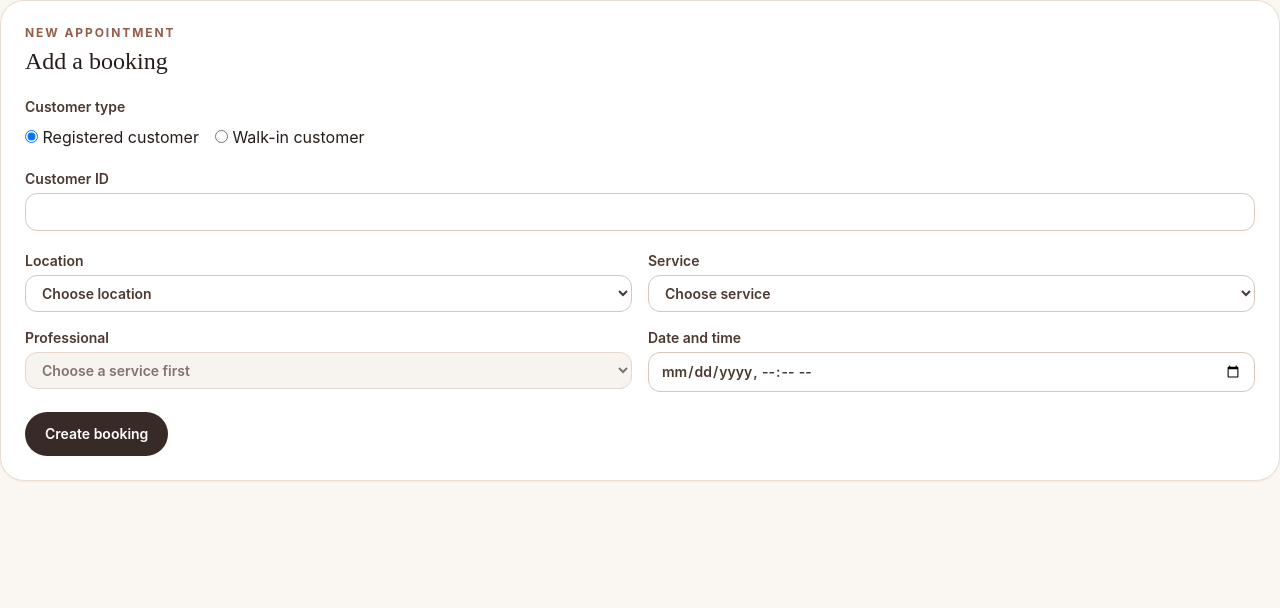
it: BookingEditor › collects explicit walk-in contact details
Click the radio button labelled "Walk-in customer": (221, 136) [215,130,228,143]
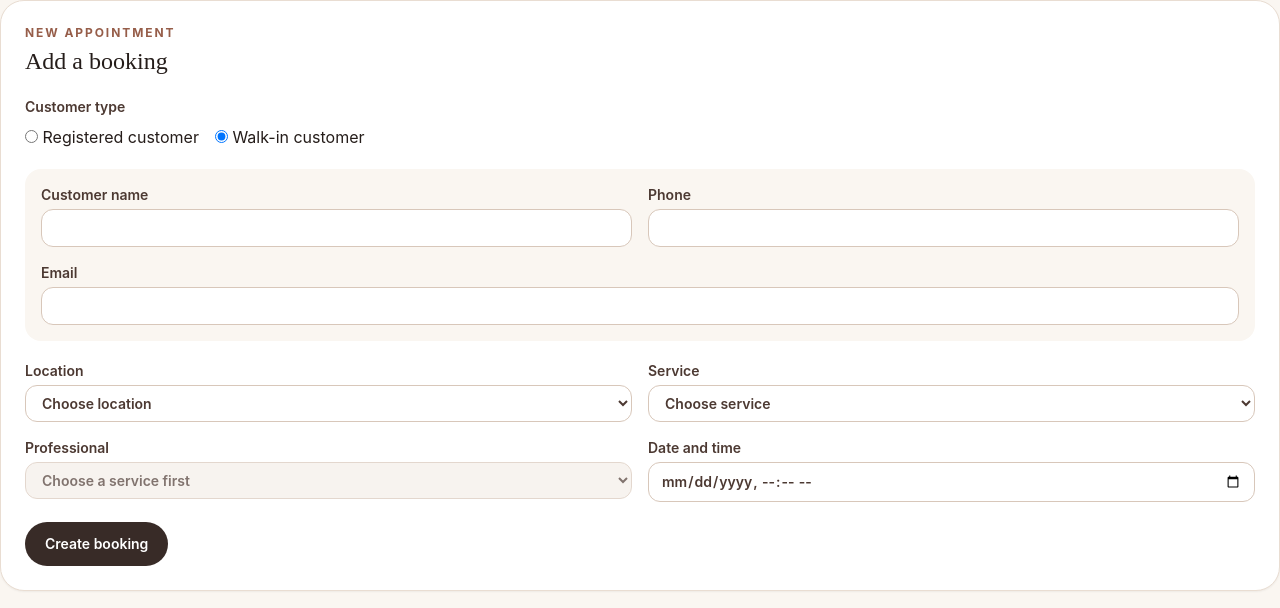
Expected: the button "Create booking" is shown, [25,522,168,566]
Now the field labelled "Phone" is shown, box [648,209,1239,247]
